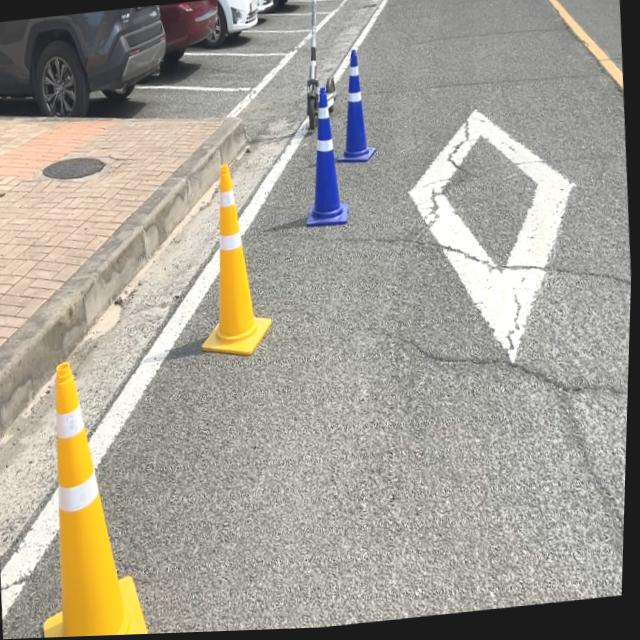b_rub: (308, 88, 349, 228), (338, 48, 377, 164)
y_rub: (46, 362, 151, 638), (204, 165, 273, 356)
